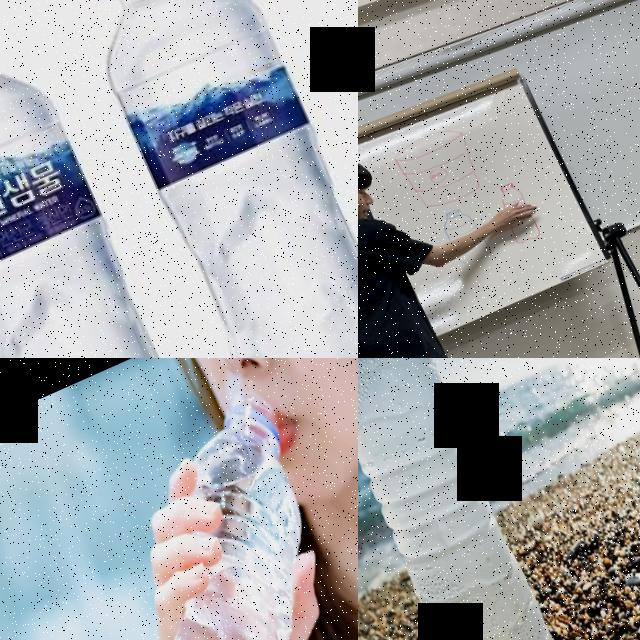bottle: (51, 0, 358, 358), (50, 384, 358, 640), (0, 0, 213, 358), (358, 358, 595, 640)
